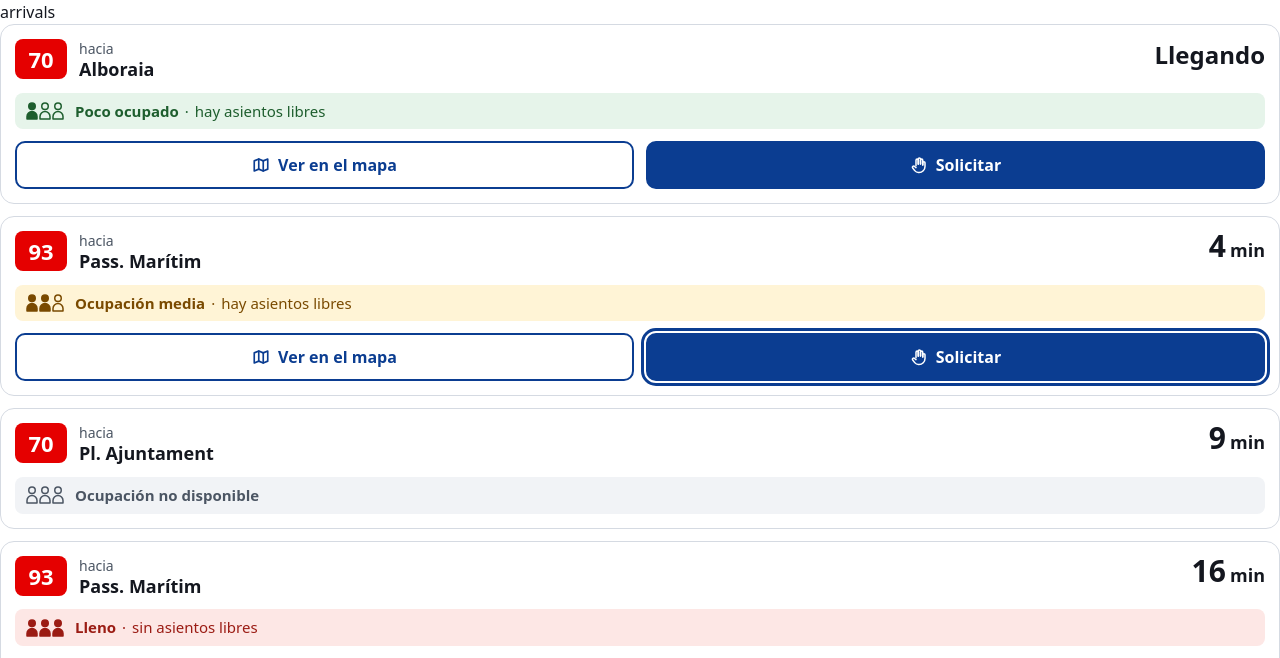
Test: RequestDialog › [passenger_alert_ui.AC-05] sends POST /alerts with the bus of the card and the needs checked, showing "Enviando…" meanwhile
The width and height of the screenshot is (1280, 658).
Click the button named "Solicitar parada a la línea 93 hacia Passeig Marítim - Hospital Malva-rosa".
click(956, 357)  # box [646, 333, 1265, 381]
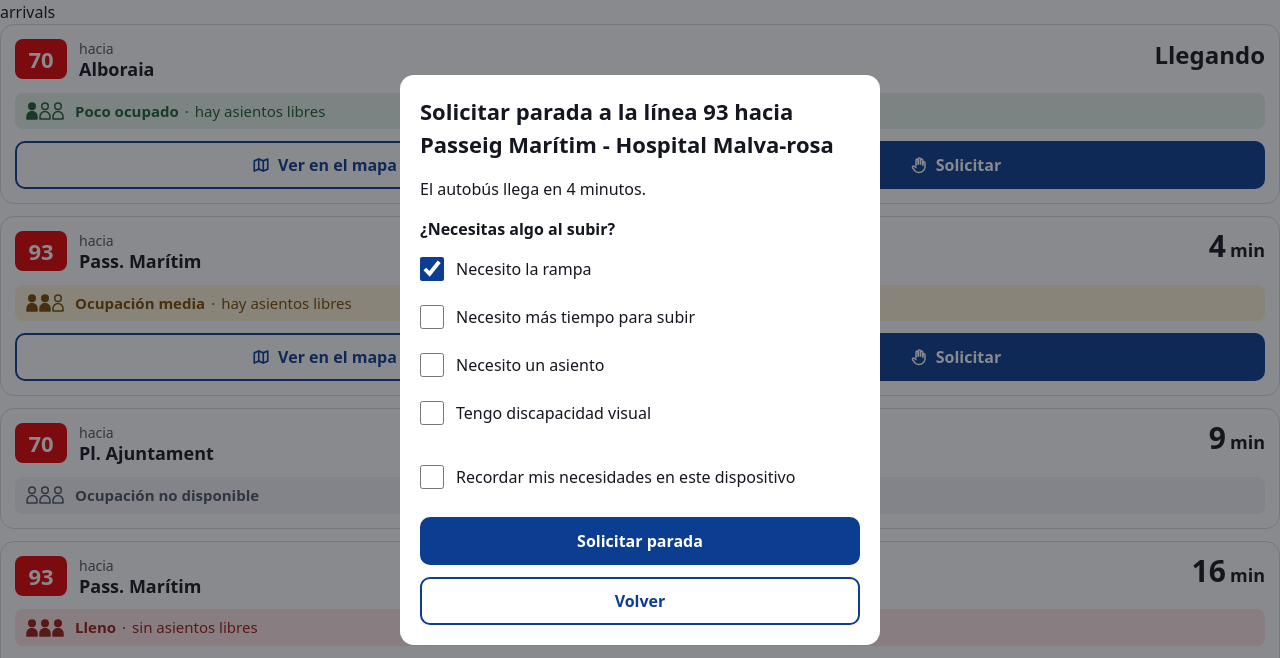
Click the checkbox labelled "Necesito un asiento".
click(432, 365)  # box [420, 353, 444, 377]
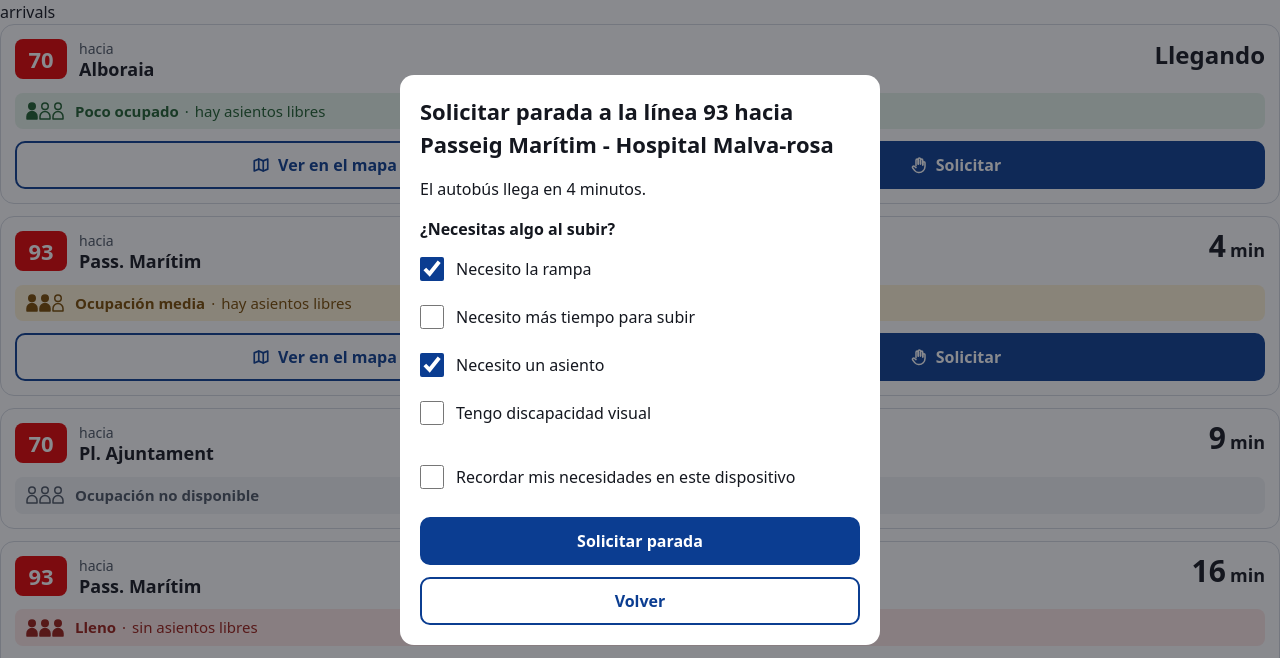
Click the button "Solicitar parada".
click(640, 541)  # box [420, 517, 860, 565]
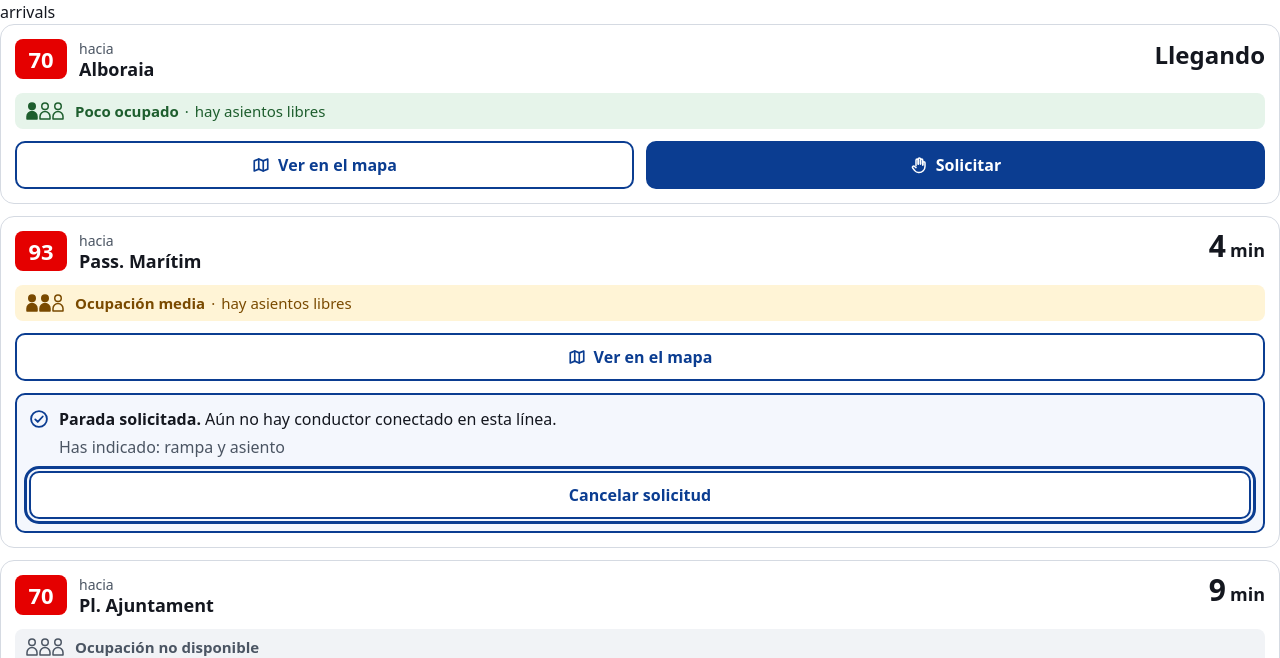
Expected: the dialog is gone
